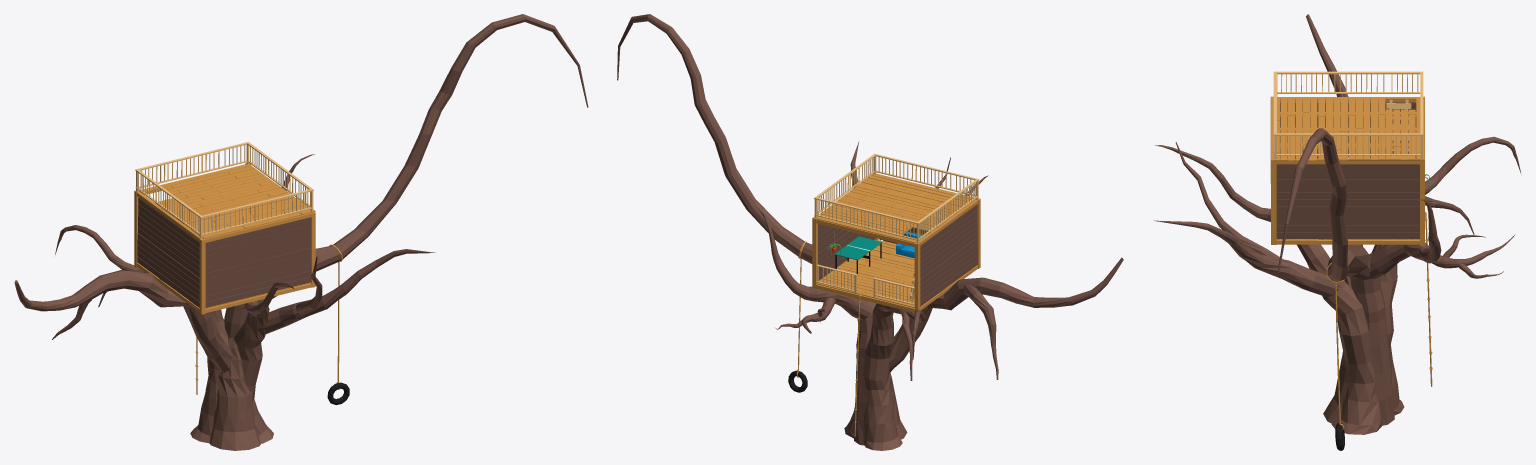
3 renders of one model, left to right at view 1: azimuth 30°, elevation 25°; view 2: azimuth 150°, elevation 25°; view 3: azimuth 270°, elevation 25°, orthographic. The views are drawn at different scales.
Visible parts, largest first — view 1: mat20, mat19, mat18; view 2: mat20, mat19, mat18, mat11; view 3: mat20, mat19, mat18.
Part boxes in pixels (<box>): mat20: <box>14,14,588,450</box>; mat19: <box>134,163,342,394</box>; mat18: <box>135,142,313,238</box>; mat20: <box>617,14,1123,450</box>; mat19: <box>796,173,980,436</box>; mat18: <box>814,153,979,305</box>; mat11: <box>834,236,882,260</box>; mat20: <box>1154,14,1521,434</box>; mat19: <box>1270,96,1432,430</box>; mat18: <box>1273,71,1423,158</box>.
Bounding box in the file's own units: 4.68 × 3 × 2.34.
